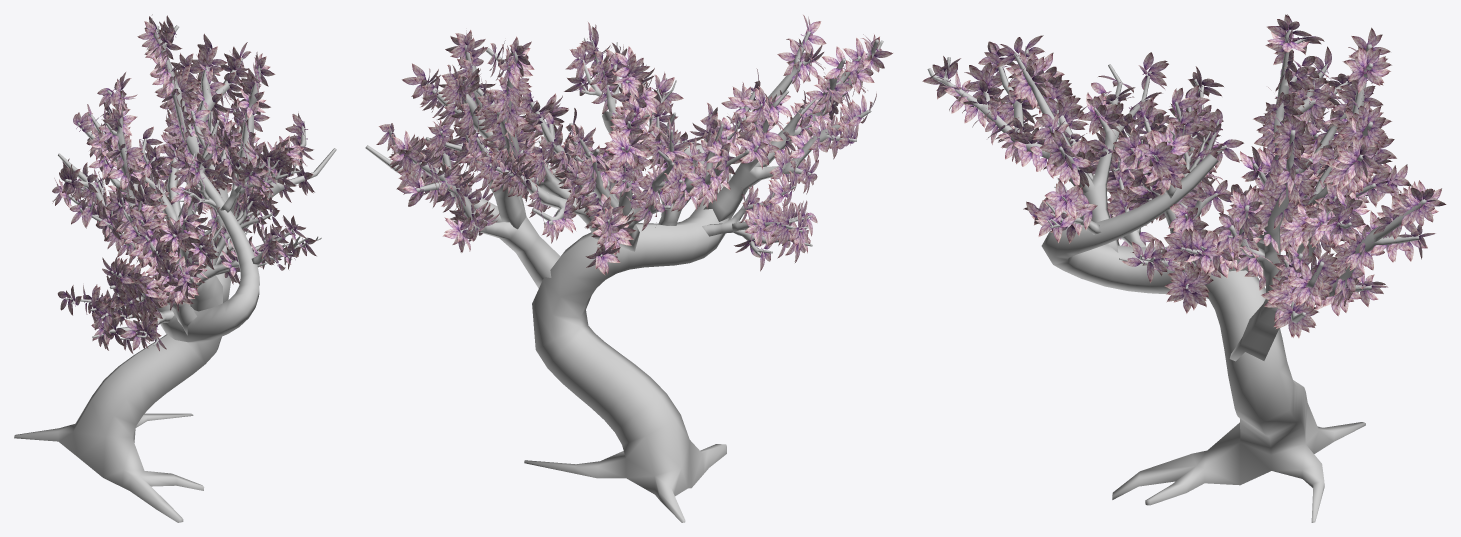
The model's file is Dio_Tree.fbx.
3 renders of one model, left to right at view 1: azimuth 30°, elevation 25°; view 2: azimuth 150°, elevation 25°; view 3: azimuth 270°, elevation 25°, orthographic. The views are drawn at different scales.
Parts seen in each view (by area): view 1: Leaves, Tree; view 2: Leaves, Tree; view 3: Leaves, Tree.
Part boxes in pixels (bbox=[...]): Leaves: bbox=[52, 14, 316, 353]; Tree: bbox=[14, 25, 336, 522]; Leaves: bbox=[376, 15, 892, 275]; Tree: bbox=[365, 31, 883, 522]; Leaves: bbox=[922, 14, 1446, 338]; Tree: bbox=[927, 29, 1426, 522].
Size of the model in its own units: 1029 by 1219 by 1120.
